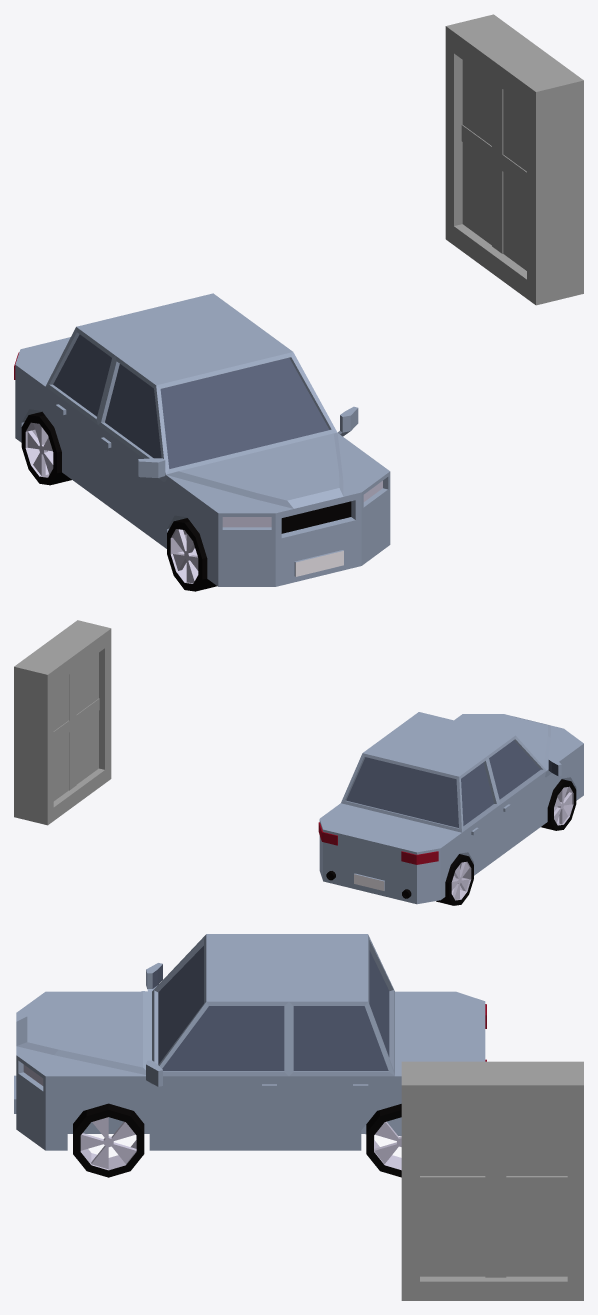
The model's file is map_garage_assets.fbx.
3 renders of one model, top to bottom at view 1: azimuth 30°, elevation 25°; view 2: azimuth 150°, elevation 25°; view 3: azimuth 270°, elevation 25°, orthographic. The views are drawn at different scales.
Visible parts, largest first — view 1: Sedan, GEO_Window_Garage, Sedan wheel front right, Sedan wheel rear right; view 2: Sedan, GEO_Window_Garage, Sedan wheel front right, Sedan wheel rear right; view 3: Sedan, GEO_Window_Garage, Sedan wheel front left, Sedan wheel rear left.
Part boxes in pixels (x1=…): Sedan: x1=14, y1=293, x2=390, y2=586; GEO_Window_Garage: x1=445, y1=14, x2=583, y2=305; Sedan wheel front right: x1=167, y1=518, x2=216, y2=591; Sedan wheel rear right: x1=21, y1=411, x2=71, y2=485; Sedan: x1=318, y1=712, x2=583, y2=904; GEO_Window_Garage: x1=14, y1=620, x2=111, y2=825; Sedan wheel front right: x1=541, y1=779, x2=576, y2=830; Sedan wheel rear right: x1=436, y1=854, x2=473, y2=905; Sedan: x1=14, y1=934, x2=486, y2=1150; GEO_Window_Garage: x1=401, y1=1061, x2=583, y2=1300; Sedan wheel front left: x1=73, y1=1103, x2=144, y2=1177; Sedan wheel rear left: x1=366, y1=1104, x2=401, y2=1177.
Bounding box in the file's own units: 7.24 × 3.31 × 6.25.
